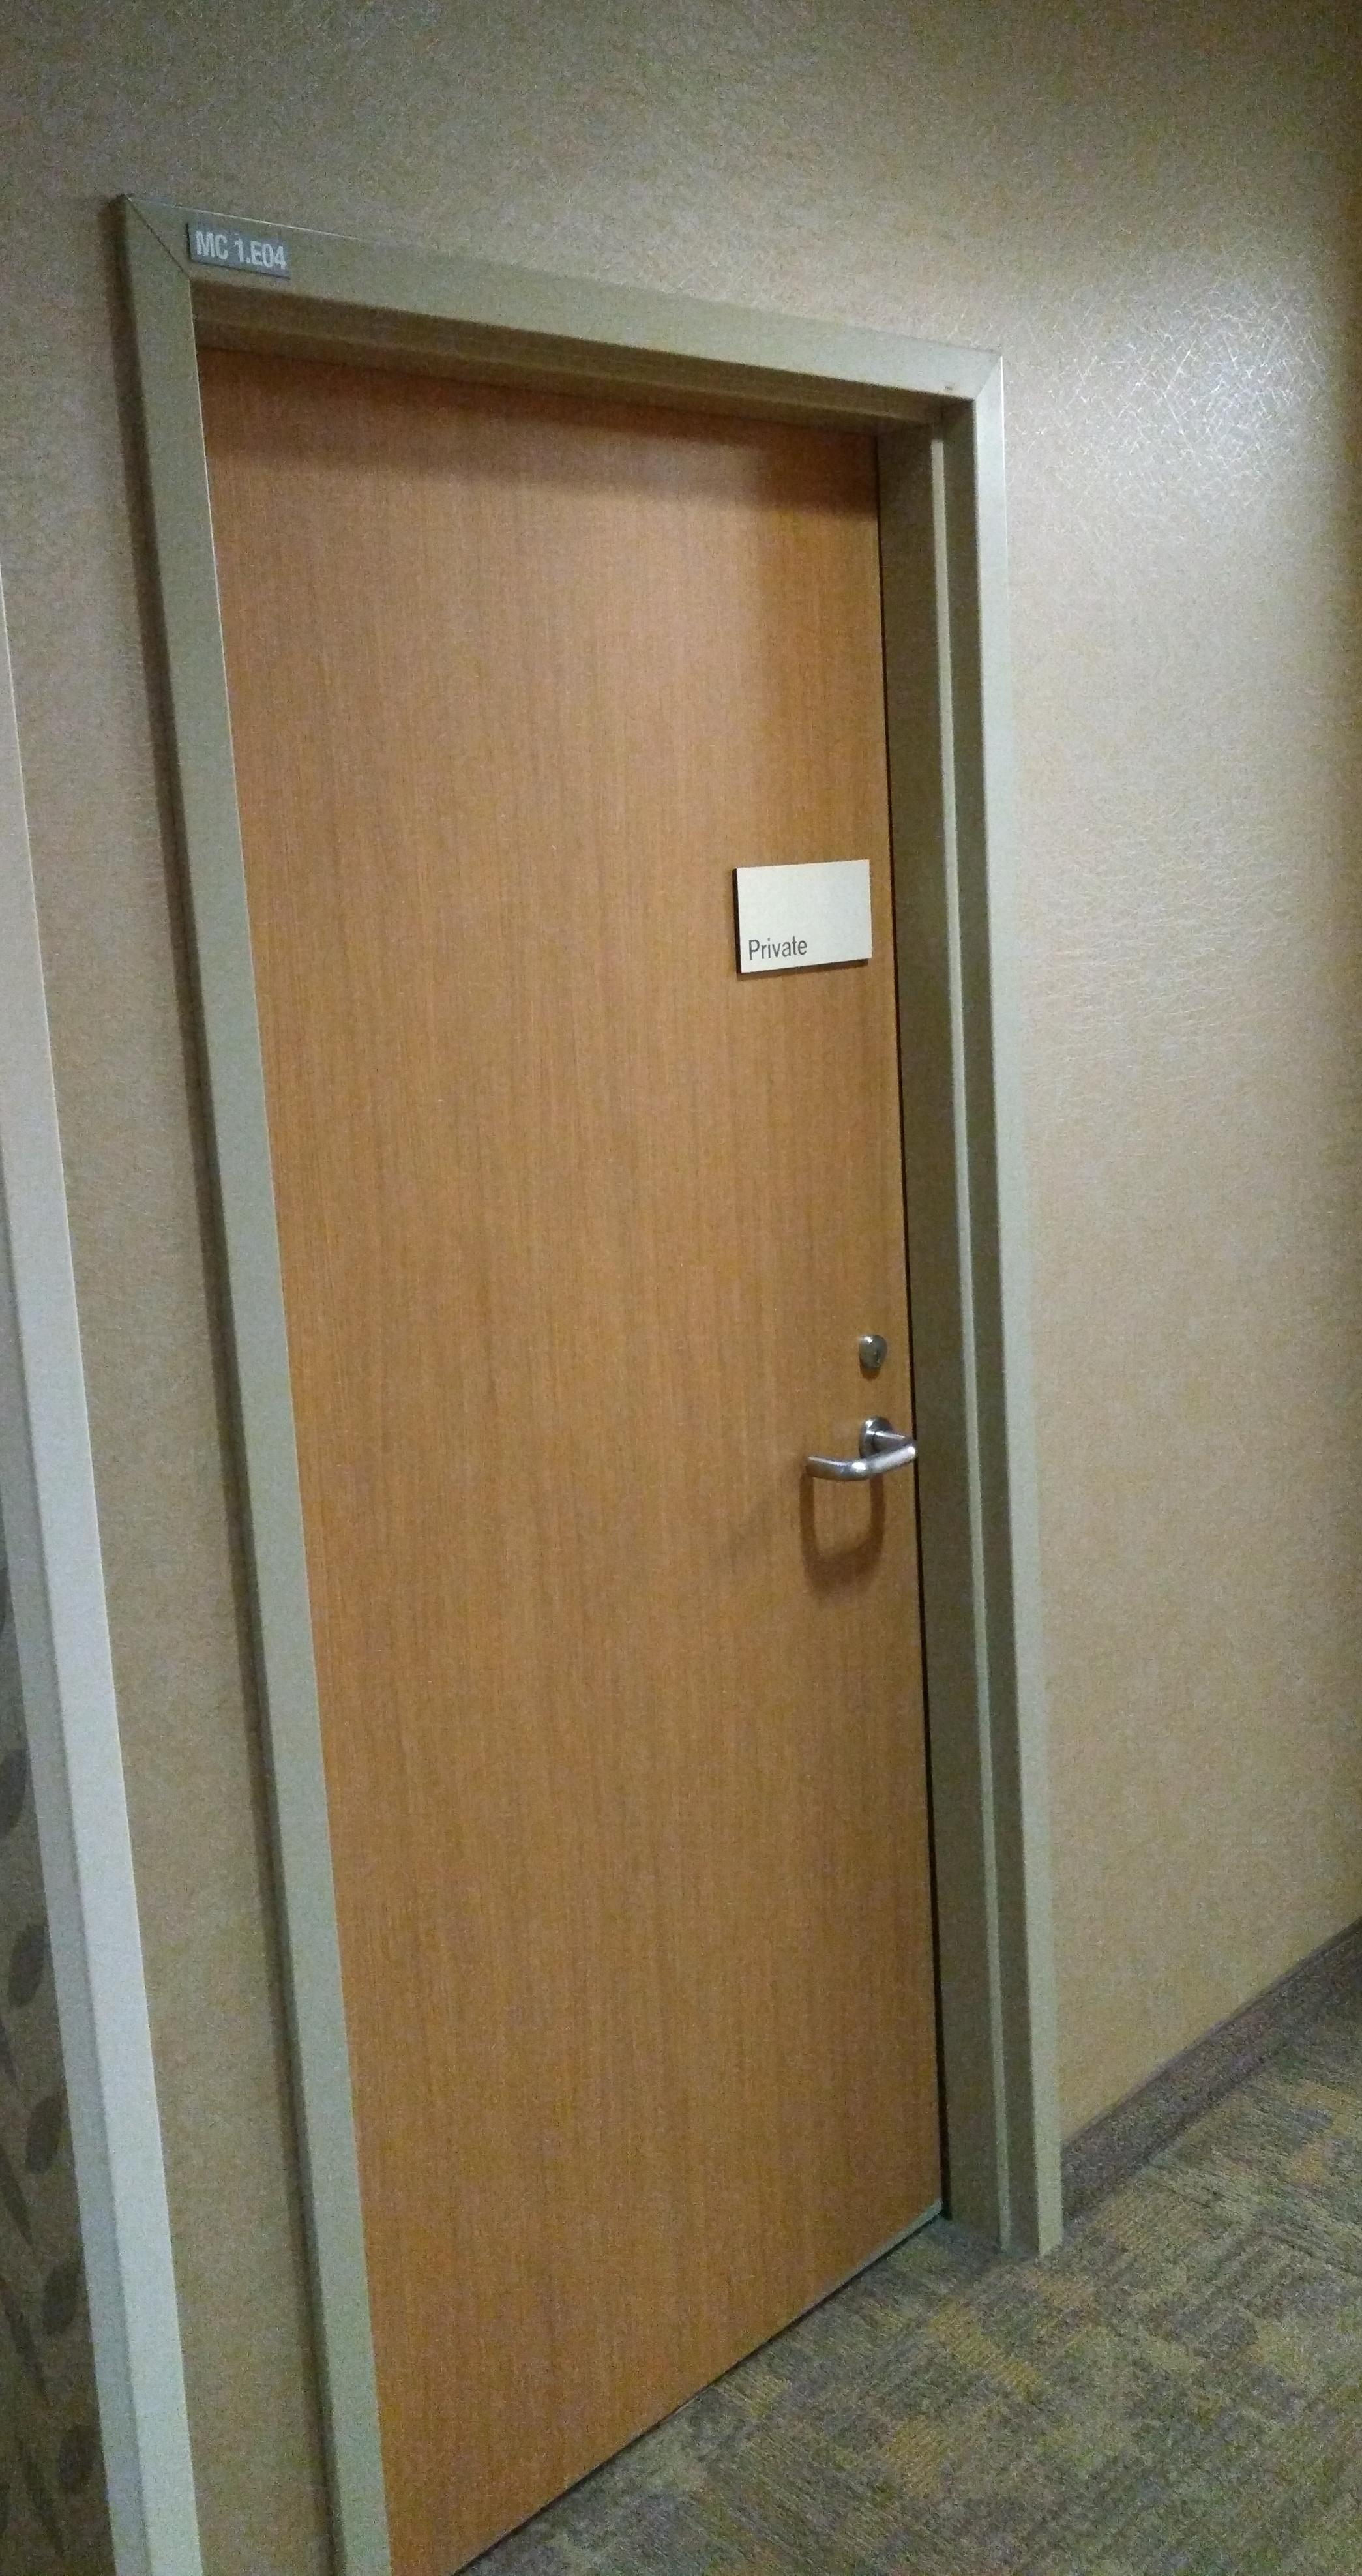door: (344, 472, 927, 2326)
handle: (817, 1370, 919, 1545)
